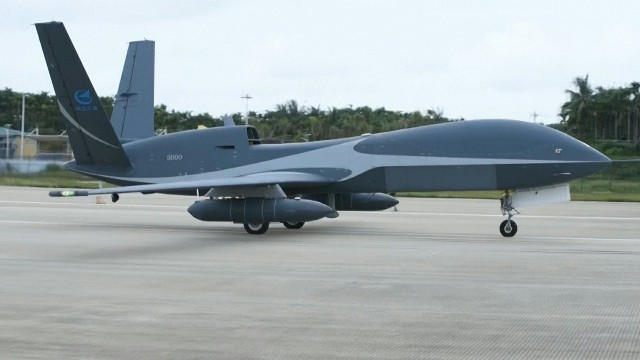maybay_khongnguoilai: (27, 21, 616, 233)
